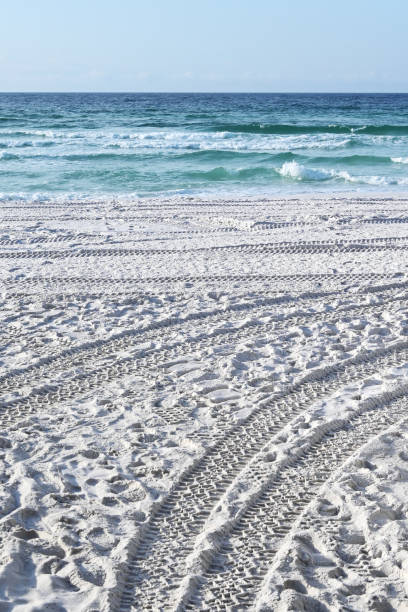vehicle_track: (119, 342, 407, 610)
